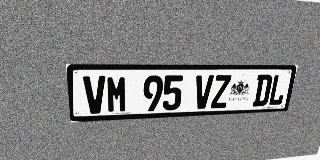5: (162, 75, 183, 111)
9: (143, 75, 164, 111)
D: (252, 75, 273, 106)
L: (267, 74, 288, 106)
M: (106, 76, 127, 113)
V: (83, 76, 106, 114), (193, 75, 214, 109)
Z: (211, 75, 232, 108)
